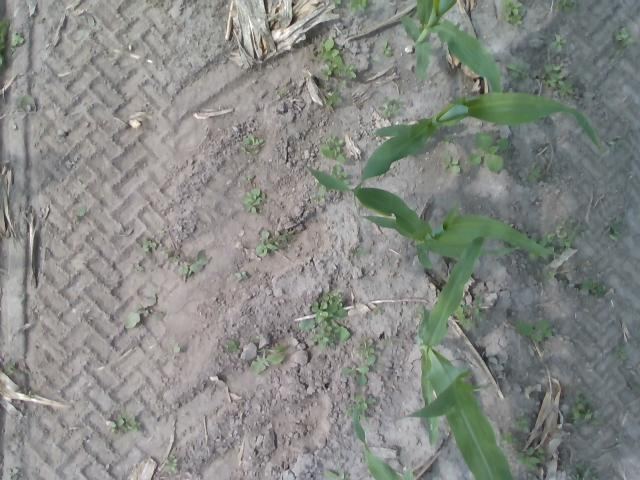Maize: (352, 90, 599, 218), (395, 238, 519, 480), (300, 160, 568, 262), (398, 0, 504, 94), (350, 401, 423, 480)
Weeds: (298, 291, 351, 350), (316, 36, 358, 80), (468, 132, 510, 175), (124, 293, 162, 329), (538, 63, 575, 96), (341, 354, 377, 387), (451, 296, 486, 328), (250, 345, 287, 375), (566, 394, 600, 426), (514, 318, 554, 343), (556, 216, 586, 248), (524, 232, 556, 260), (343, 394, 376, 420), (254, 230, 286, 255), (610, 26, 636, 56), (178, 250, 208, 276), (516, 446, 546, 472), (320, 135, 346, 163), (500, 0, 524, 28), (378, 96, 407, 118), (242, 188, 266, 214), (110, 413, 139, 434), (506, 59, 530, 82), (0, 18, 10, 68), (579, 279, 606, 297), (571, 462, 598, 480), (606, 215, 624, 242), (240, 135, 263, 156), (520, 162, 542, 182), (510, 413, 531, 433), (324, 87, 344, 107), (312, 180, 328, 205), (442, 154, 462, 172), (550, 34, 568, 53), (331, 165, 348, 185), (347, 0, 372, 13), (356, 339, 374, 357), (552, 0, 574, 14), (499, 429, 518, 445), (224, 339, 242, 355), (324, 469, 350, 480), (138, 238, 156, 252), (162, 458, 179, 472), (612, 347, 628, 361), (379, 40, 392, 57), (10, 32, 24, 47), (3, 362, 19, 375), (540, 269, 558, 280), (161, 249, 176, 261), (6, 467, 19, 480), (349, 247, 367, 256), (19, 96, 30, 108), (76, 204, 86, 216), (630, 380, 640, 392), (234, 271, 248, 279), (443, 134, 453, 145), (414, 306, 424, 317), (242, 174, 254, 183), (172, 346, 180, 354), (330, 0, 342, 5), (374, 307, 381, 315), (341, 80, 346, 86)
